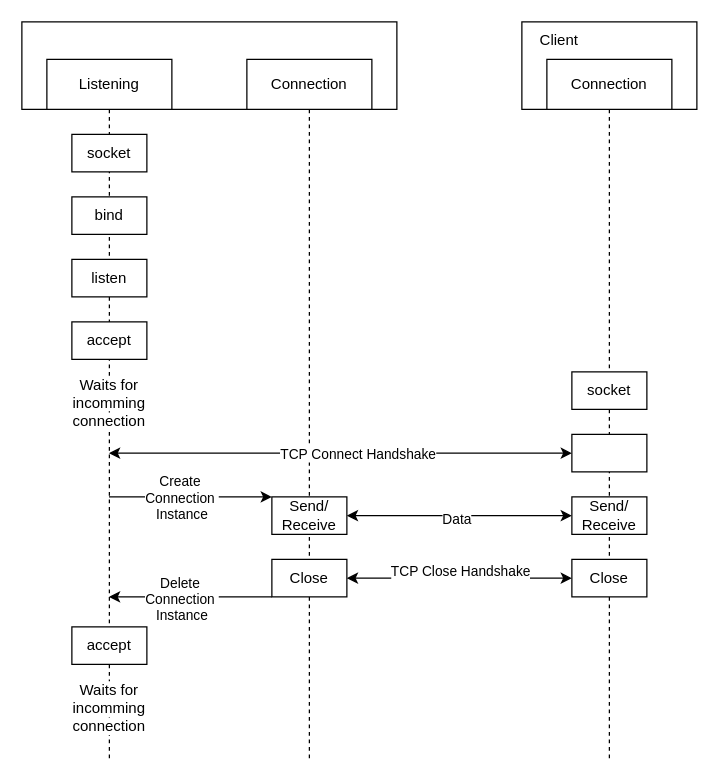
The diagram is 719 pixels wide and 781 high, and some of its shapes have lost their labels. Here are the shapes that lost their labels. From the top down, the centre of each, then its label:
At point 209,65: "Server".
At point 609,452: "connect".
